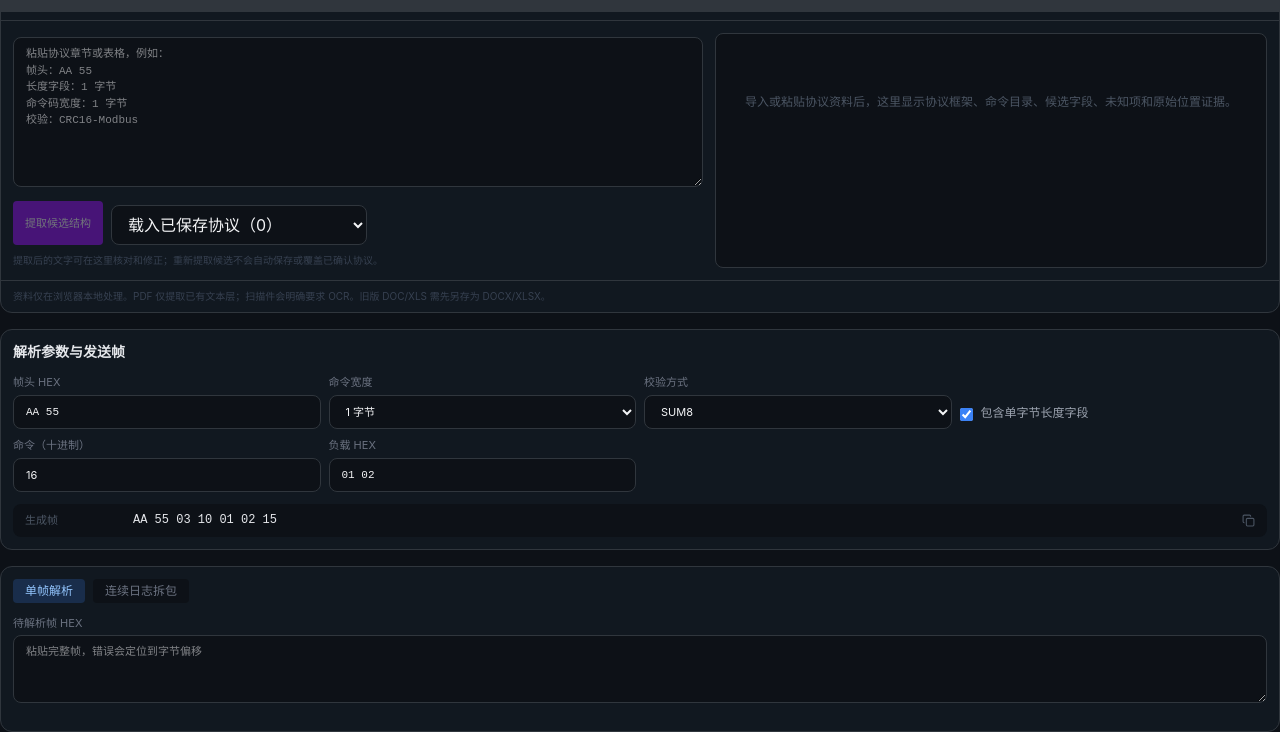
Test: FrameTool stream workflow › requires fixed payload length only for lengthless stream protocols
The width and height of the screenshot is (1280, 732).
(page scrolled)
Click the checkbox labelled "包含单字节长度字段" at (966, 414), box [960,408,972,421]
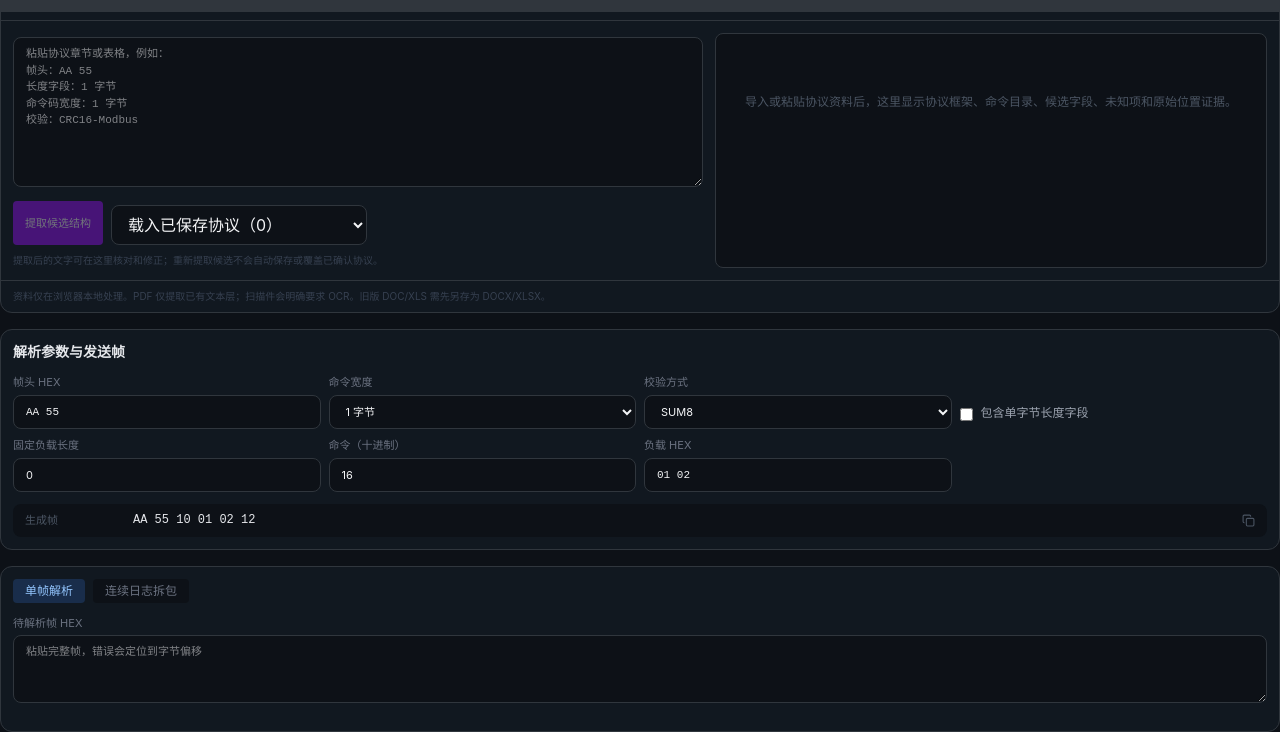
Check: the number field labelled "固定负载长度" is shown
Replace the text in the number field labelled "固定负载长度" with "2" at (167, 475), box [13,458,320,492]
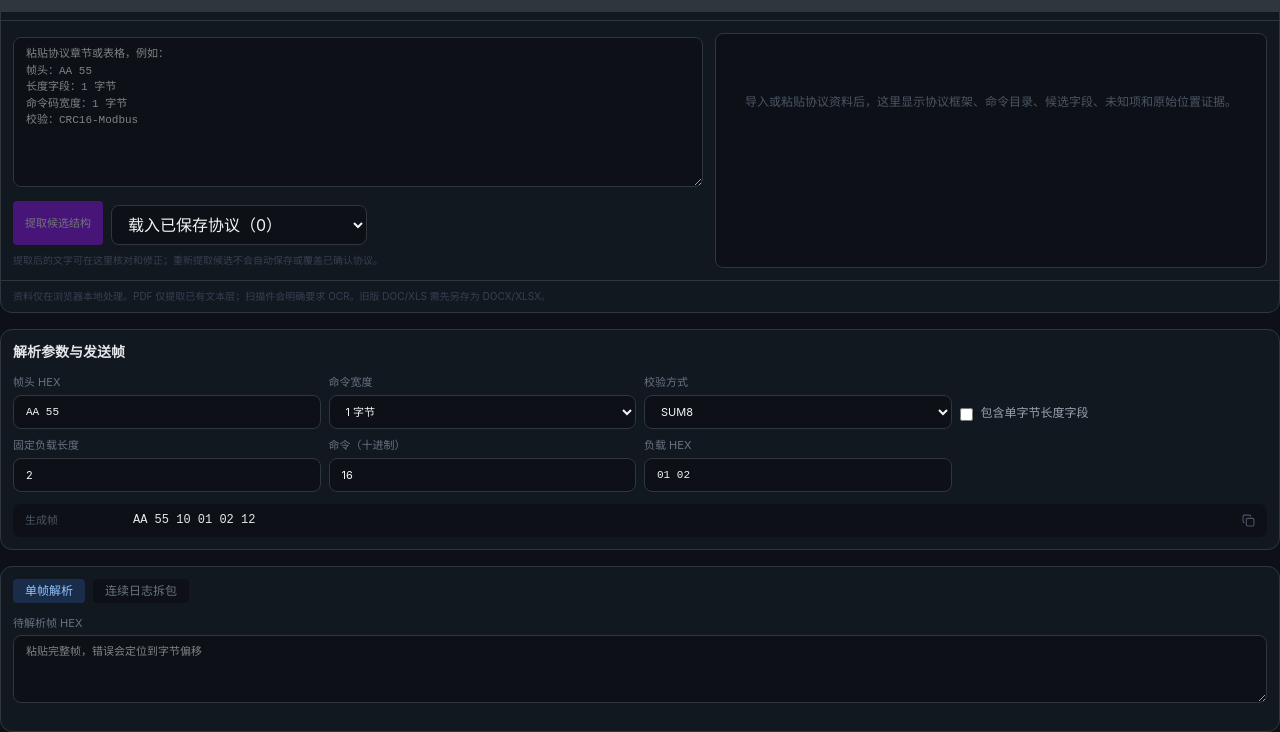
Click the button "连续日志拆包" at (141, 590), box [93,578,189,602]
(page scrolled)
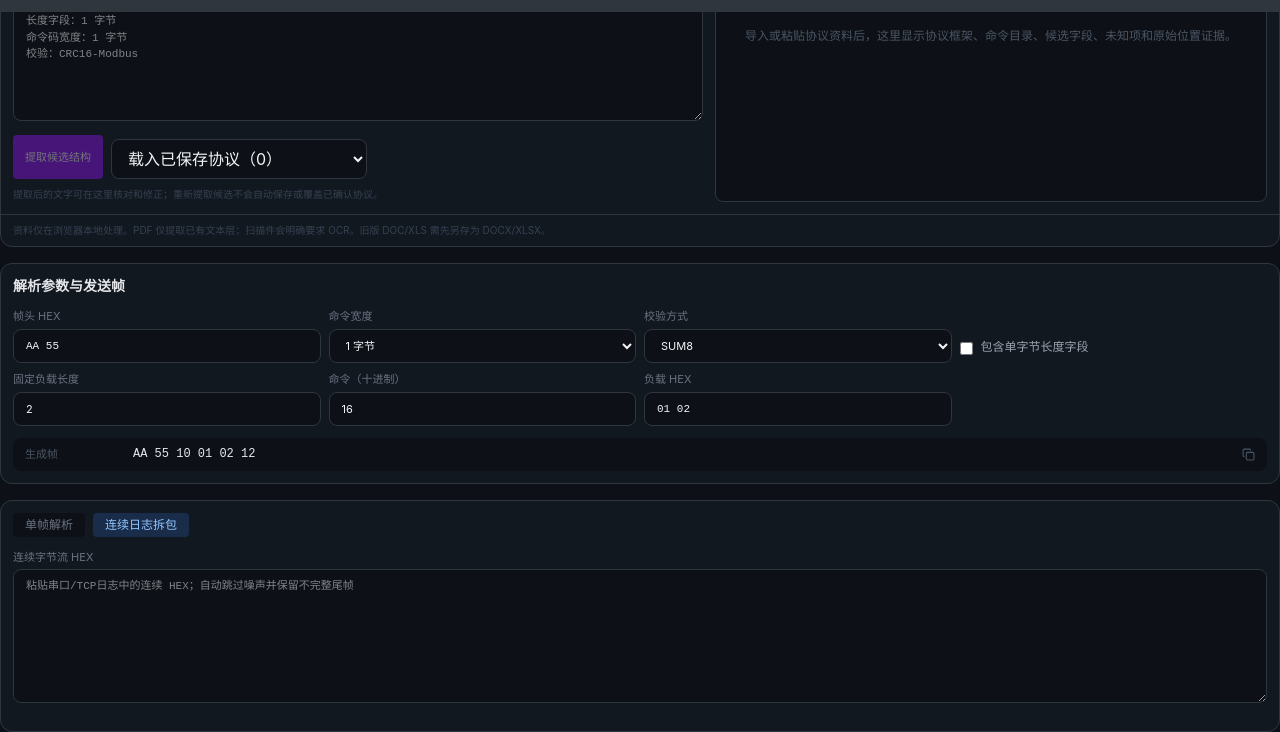
Type "AA 55 01 10 11 21 AA 55 02 20 21 42" into the text box labelled "连续字节流 HEX" at (640, 636), box [13,569,1267,702]
(page scrolled)
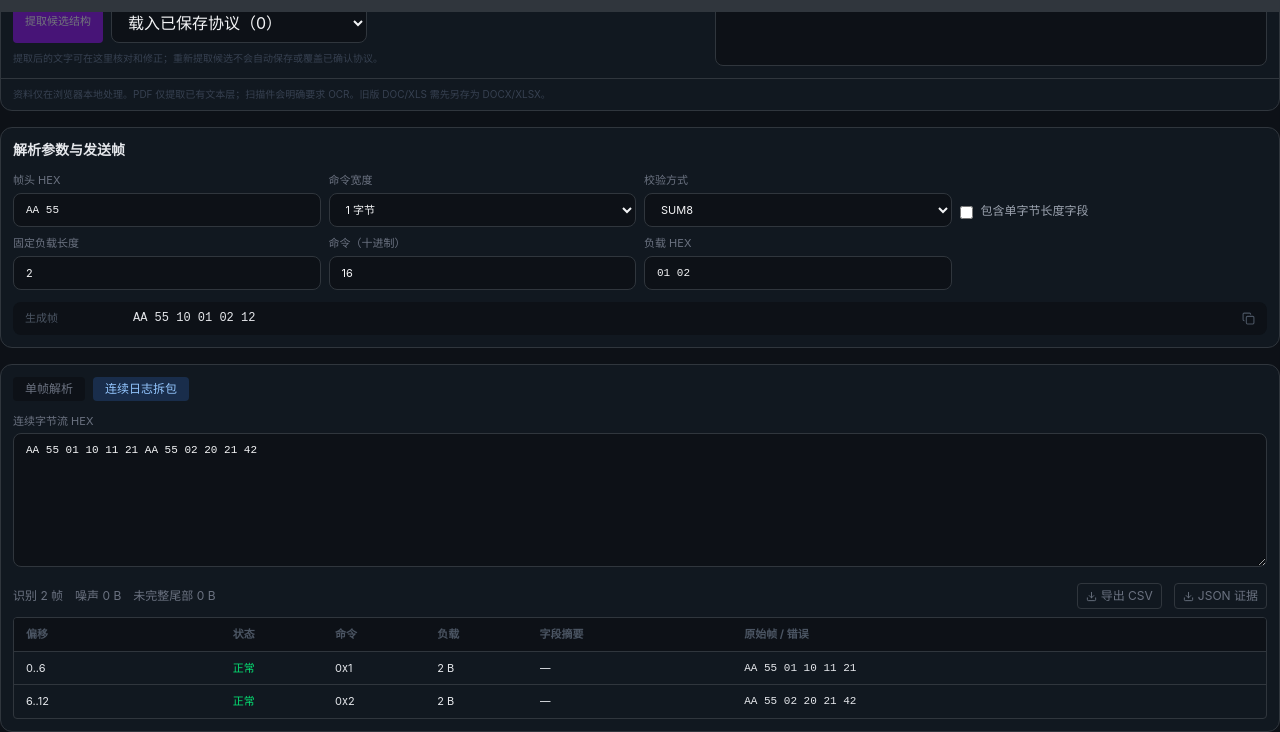
Check: the text "识别 2 帧" is shown, box [13,588,63,604]
